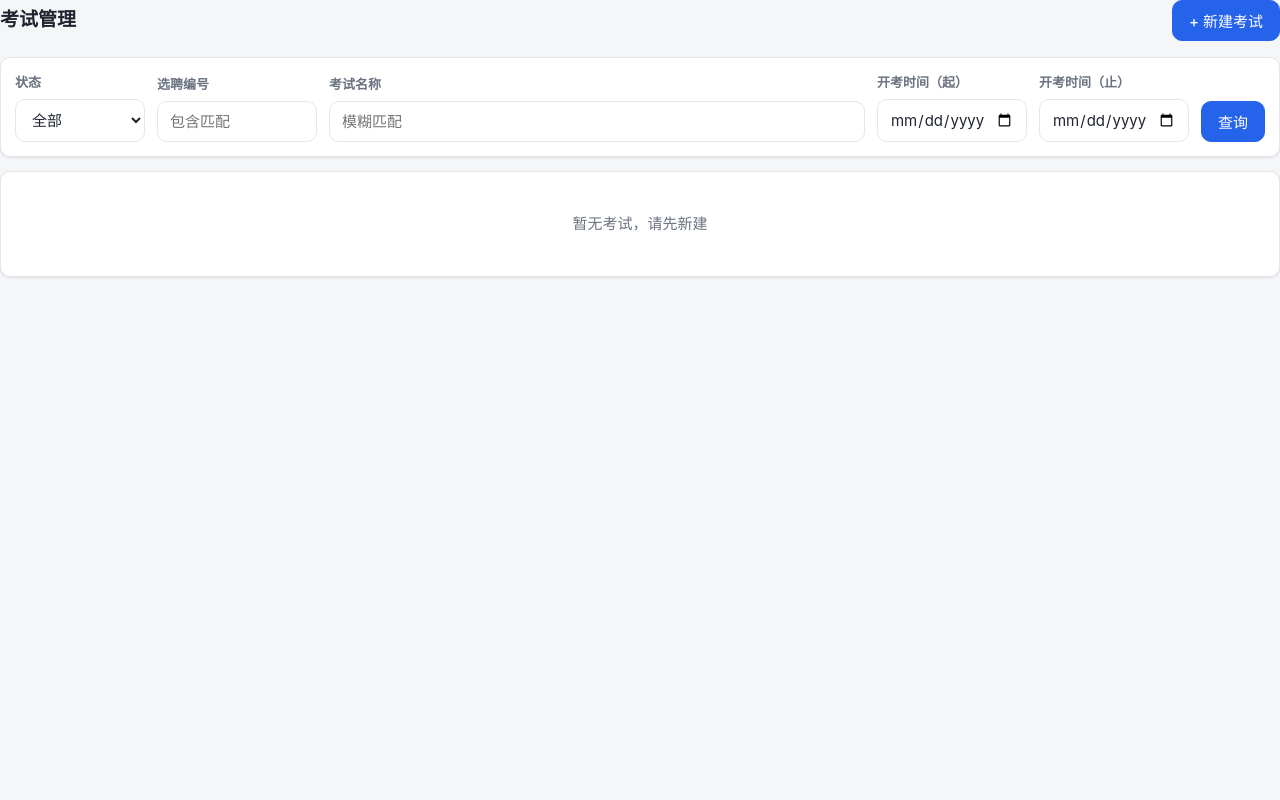
Test: 及格比例说明（CH-004） › 说明文案随所选比例变化
Click the button "+ 新建考试" at coordinates (1226, 20), box [1172,0,1279,41]
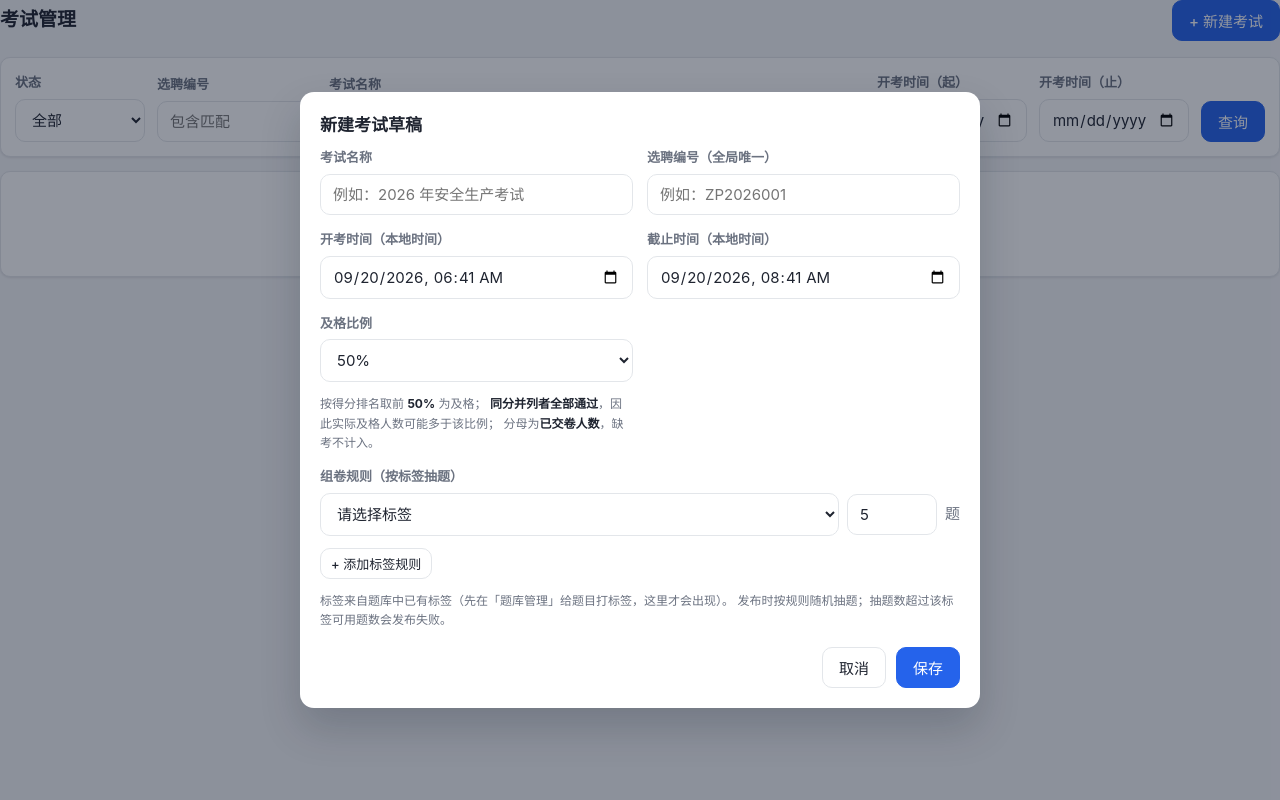
Select "80%" in the dropdown with id "e-ratio" at coordinates (476, 361), box [320,339,633,382]
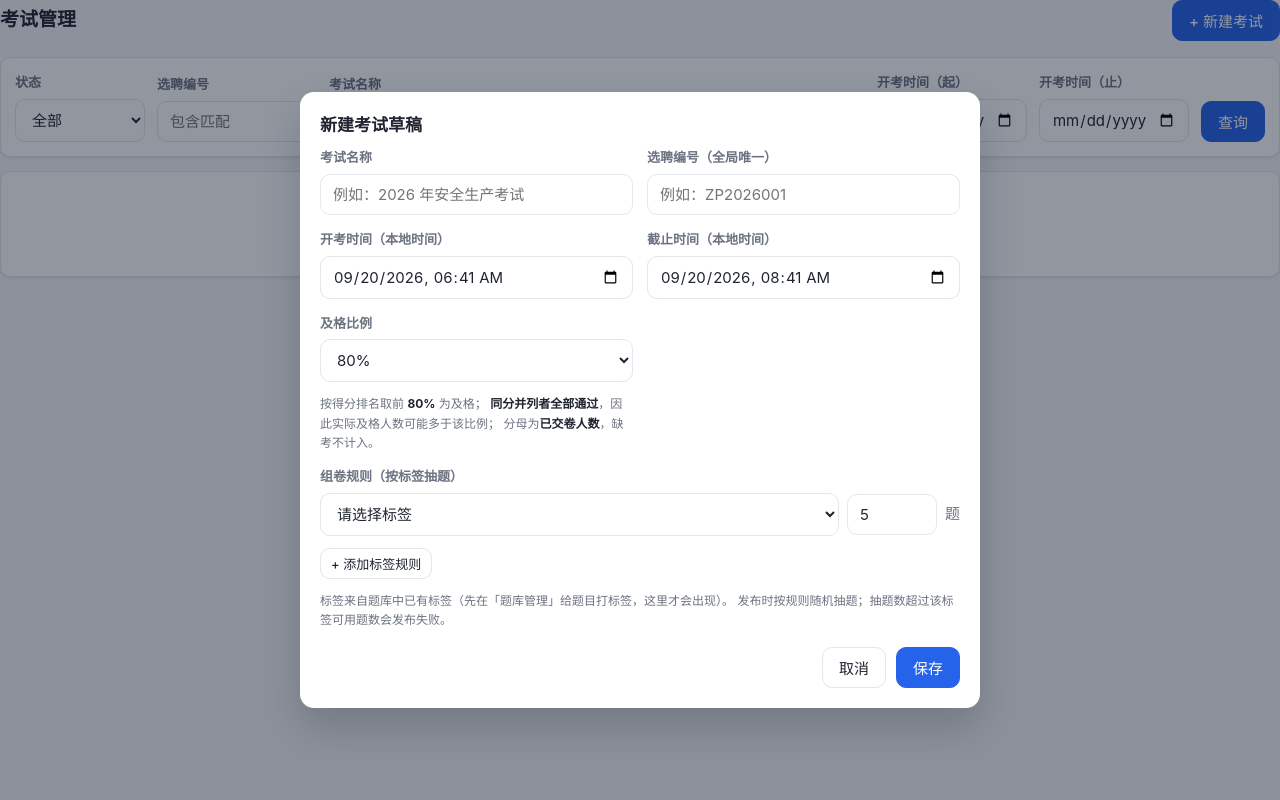
Expected: the element with class "modal" shows "前 80%", [300,92,980,708]
